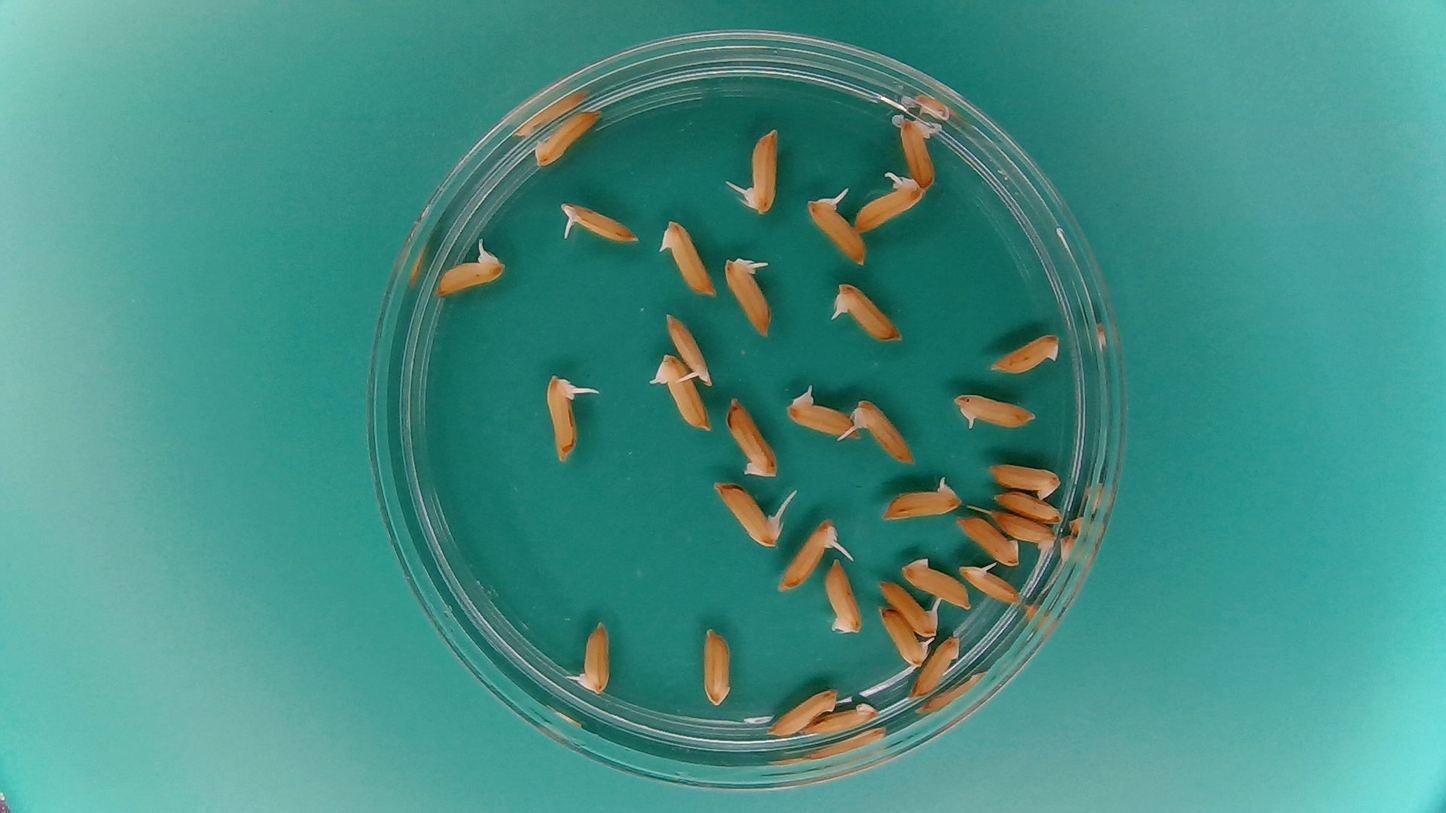no: (725, 393, 784, 480), (532, 102, 605, 170), (901, 556, 974, 613), (766, 683, 840, 738), (909, 630, 963, 702), (955, 512, 1023, 568), (984, 329, 1065, 376), (820, 556, 866, 638), (698, 622, 736, 710), (984, 460, 1063, 501), (993, 510, 1058, 558), (806, 700, 881, 738), (992, 491, 1063, 525)
yes: (648, 351, 715, 436), (656, 217, 719, 301), (832, 277, 906, 343), (774, 519, 837, 593), (663, 309, 718, 391), (710, 486, 783, 547), (808, 195, 868, 268), (721, 257, 773, 341), (783, 386, 859, 442), (853, 400, 913, 469), (876, 576, 940, 638), (538, 378, 581, 469), (874, 604, 933, 669), (853, 175, 918, 232), (741, 128, 782, 216), (895, 115, 943, 189), (431, 250, 505, 297), (883, 480, 958, 523), (954, 393, 1037, 431), (558, 202, 636, 241), (577, 618, 615, 698), (958, 561, 1024, 607)
